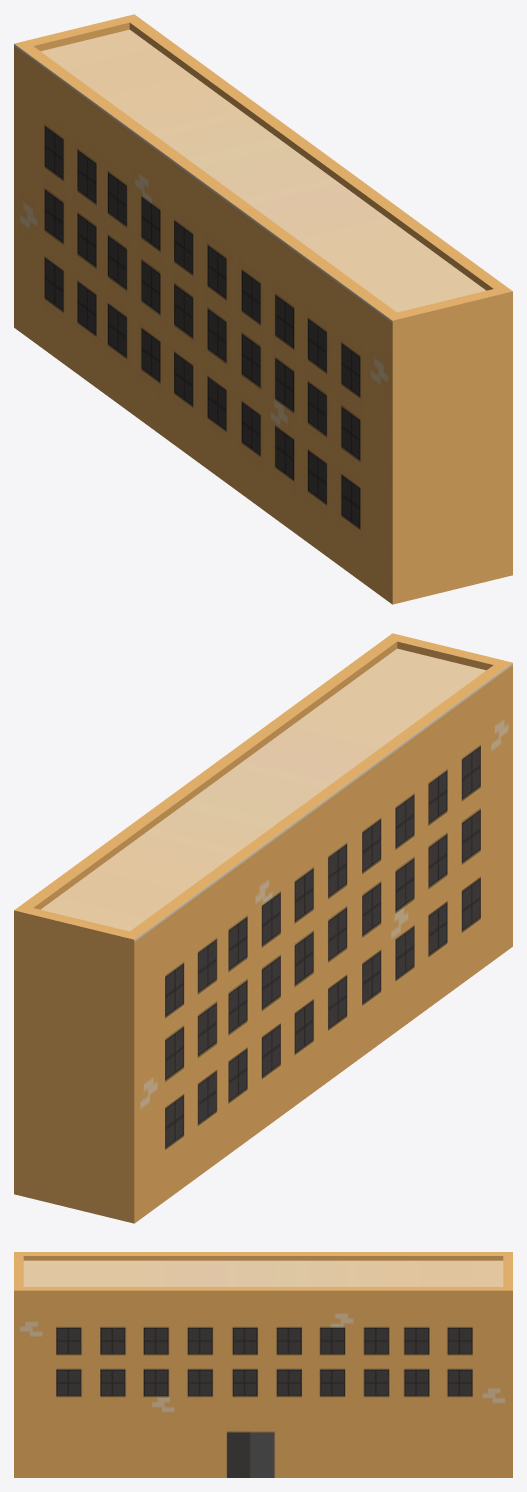
File: cube.006_material.004_0_lev1.glb
3 views of the same model, one above another, from view 1: azimuth 30°, elevation 25°; view 2: azimuth 150°, elevation 25°; view 3: azimuth 270°, elevation 25° (orthographic). The views are drawn at different scales.
Parts seen in each view (by area): view 1: cube.006_material.004_0_lev1; view 2: cube.006_material.004_0_lev1; view 3: cube.006_material.004_0_lev1.
Boxes of the visible parts, bbox=[...] form: cube.006_material.004_0_lev1: bbox=[14, 14, 512, 604]; cube.006_material.004_0_lev1: bbox=[14, 633, 512, 1223]; cube.006_material.004_0_lev1: bbox=[14, 1252, 512, 1477].
Bounding box in the file's own units: 0.3499 × 0.788 × 1.9.
1 material, 1 textured.
